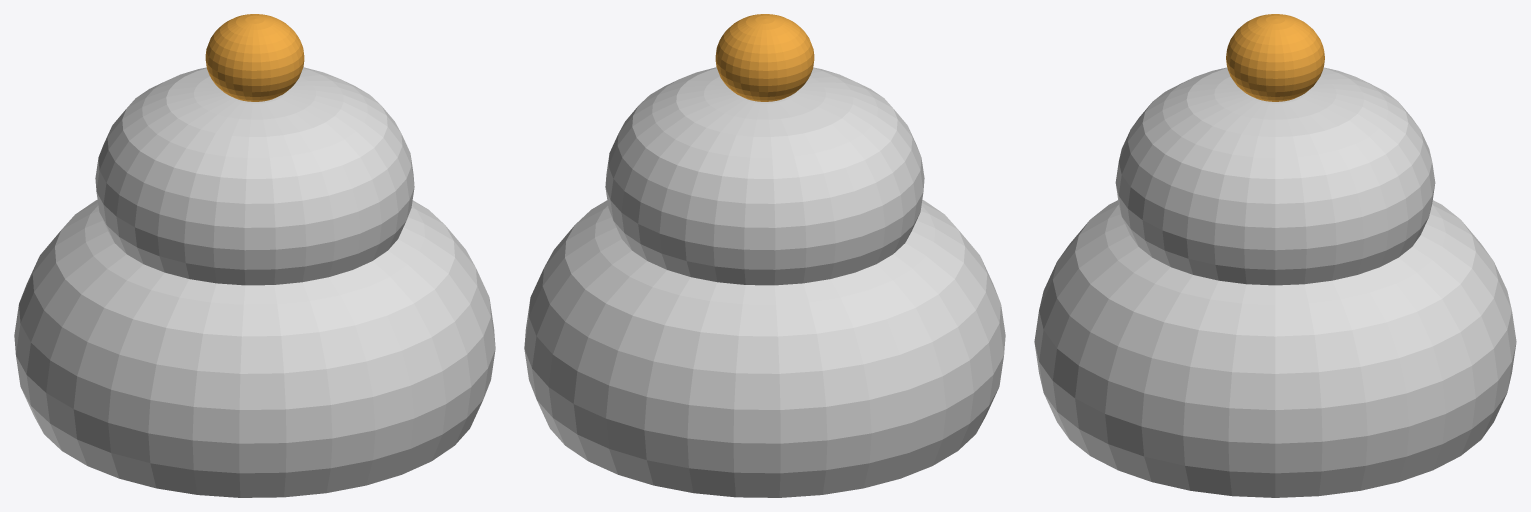
3 renders of one model, left to right at view 1: azimuth 30°, elevation 25°; view 2: azimuth 150°, elevation 25°; view 3: azimuth 270°, elevation 25°, orthographic.
Visible parts, largest first — view 1: Sphere.002, Sphere.001, Sphere; view 2: Sphere.002, Sphere.001, Sphere; view 3: Sphere.002, Sphere.001, Sphere.
Boxes of the visible parts, left/top/right/bottom form: Sphere.002: left=14, top=199, right=495, bottom=497; Sphere.001: left=95, top=67, right=414, bottom=285; Sphere: left=205, top=14, right=304, bottom=101; Sphere.002: left=524, top=199, right=1005, bottom=497; Sphere.001: left=605, top=67, right=924, bottom=285; Sphere: left=715, top=14, right=814, bottom=101; Sphere.002: left=1034, top=200, right=1516, bottom=497; Sphere.001: left=1115, top=67, right=1435, bottom=285; Sphere: left=1226, top=14, right=1324, bottom=101.
Size of the model in its own units: 972 by 859 by 972.
